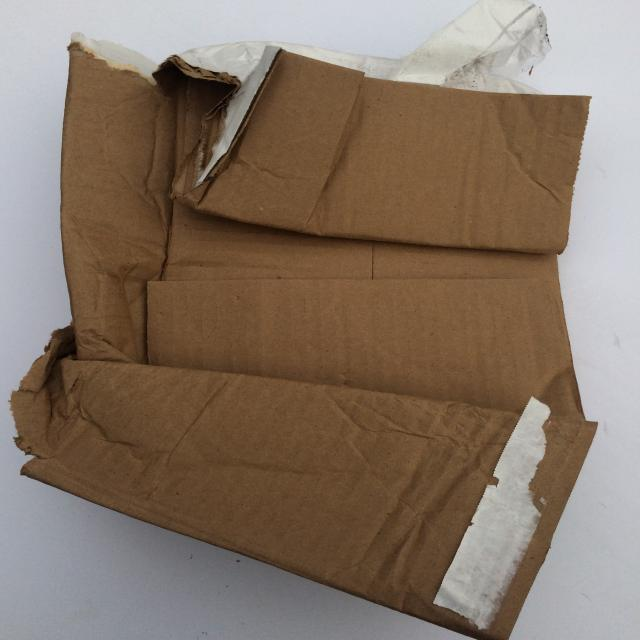cardboard: (11, 31, 600, 640)
